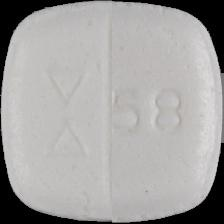0615-5530: (0, 0, 224, 224)
